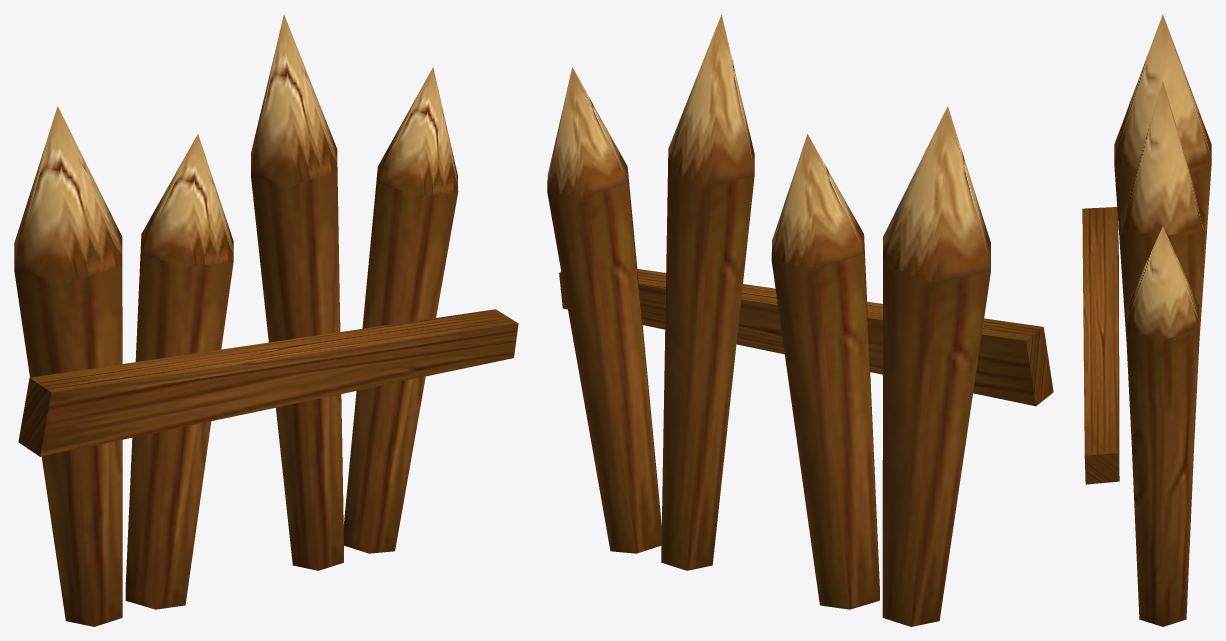
File: wood05q.FBX
The picture shows the model from 3 angles, left to right: view 1: azimuth 30°, elevation 25°; view 2: azimuth 150°, elevation 25°; view 3: azimuth 270°, elevation 25°; orthographic projection. The views are drawn at different scales.
Parts seen in each view (by area): view 1: Object009; view 2: Object009; view 3: Object009.
Boxes of the visible parts, x1,y1,x2,y2 form: Object009: (14, 14, 518, 626); Object009: (547, 14, 1053, 626); Object009: (1082, 14, 1211, 626).
Bounding box in the file's own units: 156 × 172 × 40.44.
